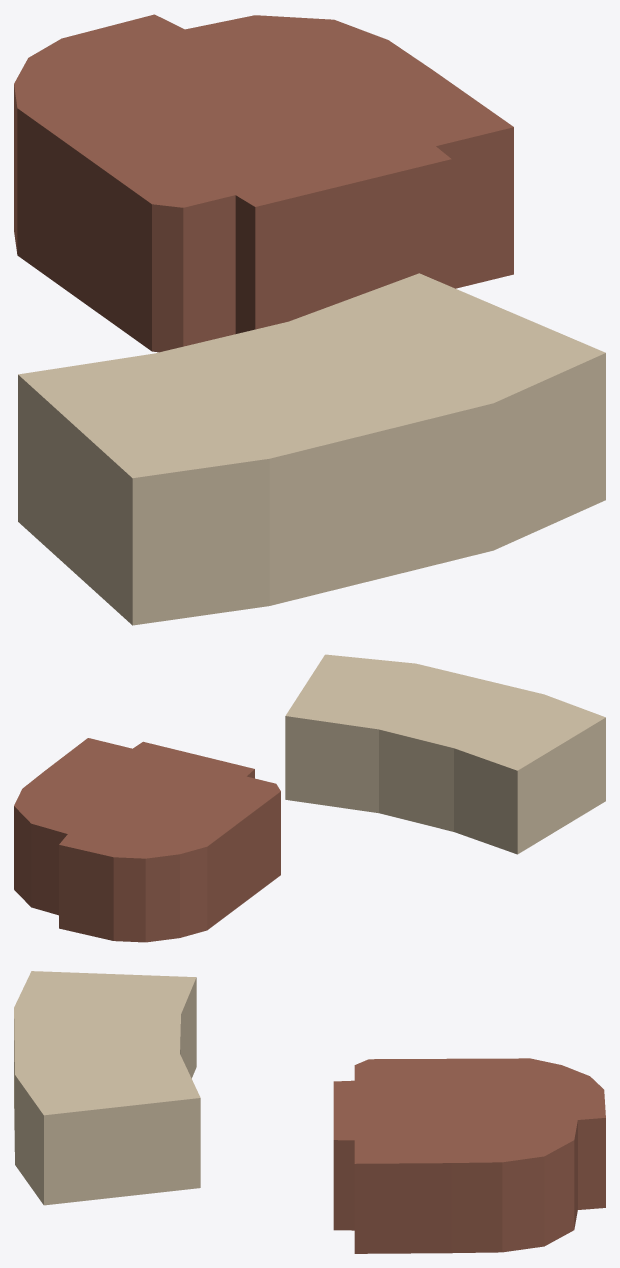
Rendered from city_6_5.glb.
3 views of the same model, one above another, from view 1: azimuth 30°, elevation 25°; view 2: azimuth 150°, elevation 25°; view 3: azimuth 270°, elevation 25° (orthographic). The views are drawn at different scales.
Parts seen in each view (by area): view 1: city_6_5; view 2: city_6_5; view 3: city_6_5.
Part boxes in pixels (x1,y1,x2,y2): city_6_5: [14, 14, 605, 625]; city_6_5: [14, 654, 605, 942]; city_6_5: [14, 971, 605, 1253].
Size of the model in its own units: 68.83 by 15 by 89.33.
